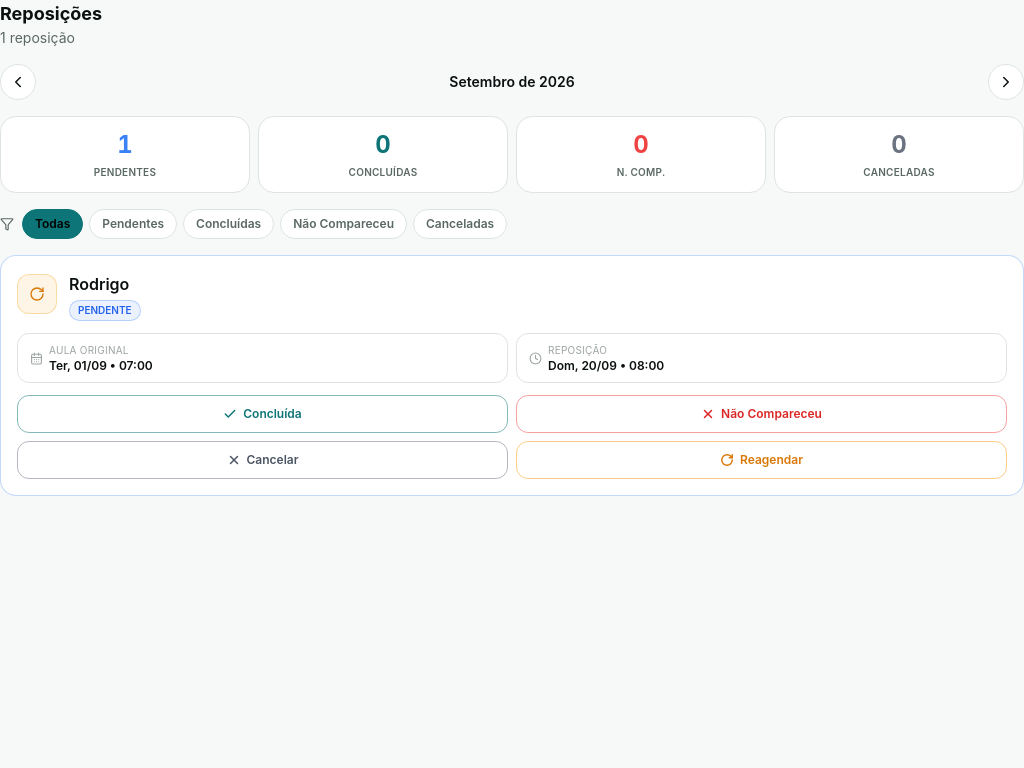
Test: ReposicoesView — "Reagendar" (validações do ReposicaoModal) › impede reagendar para a mesma data/horário da aula original
Click the button "Reagendar".
click(762, 460)  # box [516,441,1007,479]
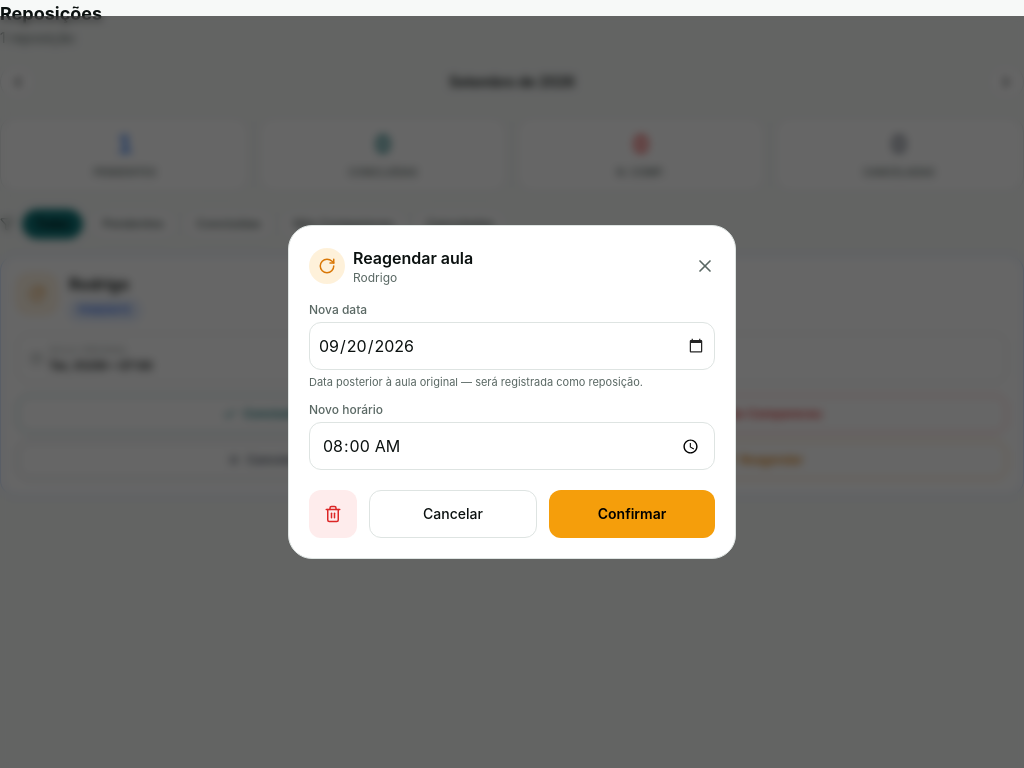
Type "2026-09-01" into the date field labelled "Nova data".
click(512, 346); type("2026-09-01")  # box [309,322,715,370]
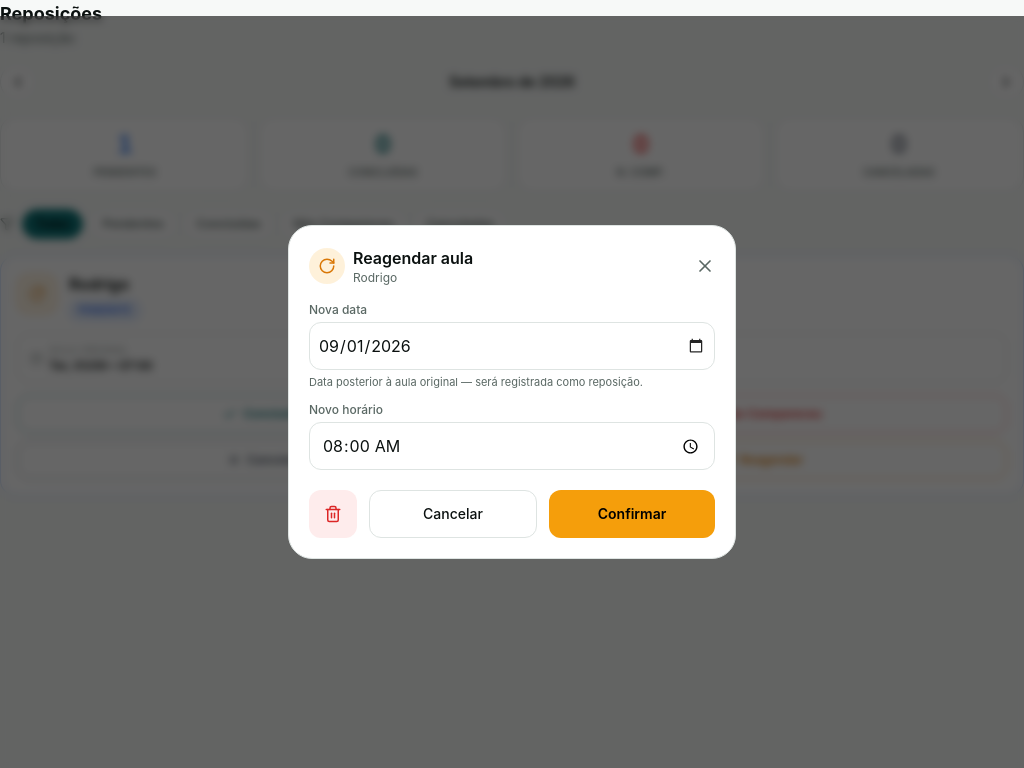
Replace the text in the time field labelled "Novo horário" with "07:00" at (512, 446), box [309,422,715,470]
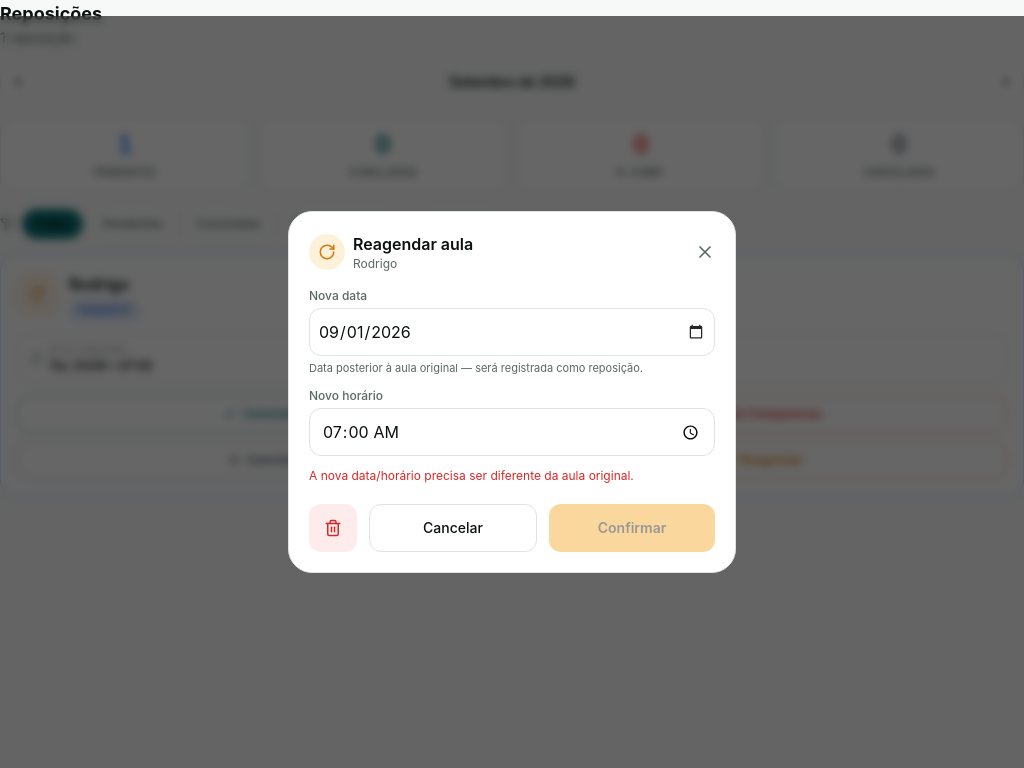
Now the text "A nova data/horário precisa ser diferente da aula original." is shown, box [309,468,634,483]
Now the button "Confirmar" is disabled, box [549,504,715,552]
